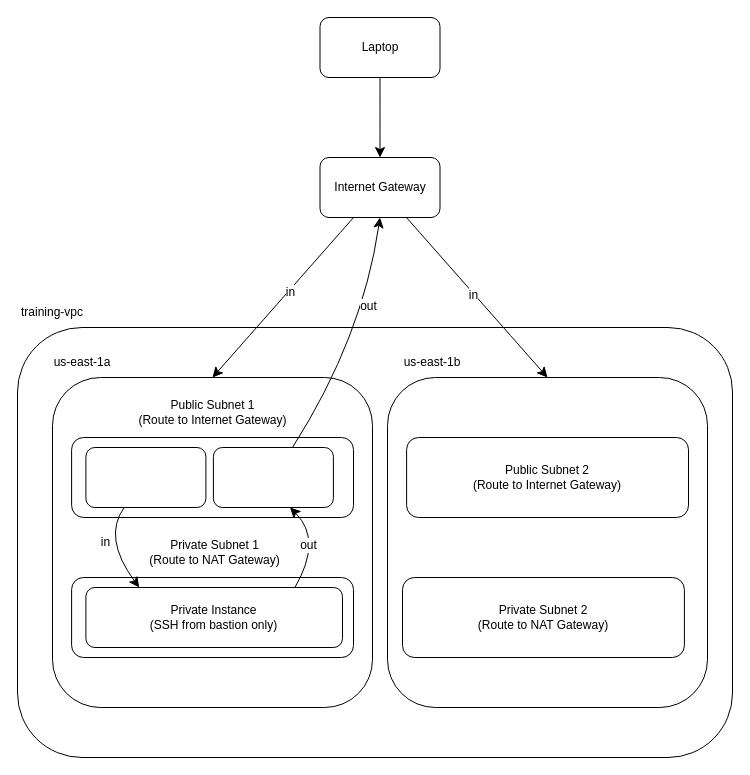
Image size: 750x775. Some labels were removed from this diagram. The box of each missing label's shape, as (x1, y1, x2, y2) in pixels:
Bastion (SSH from My IP): (85, 446, 206, 508)
NAT Gateway Has Elastic IP: (212, 446, 333, 508)
